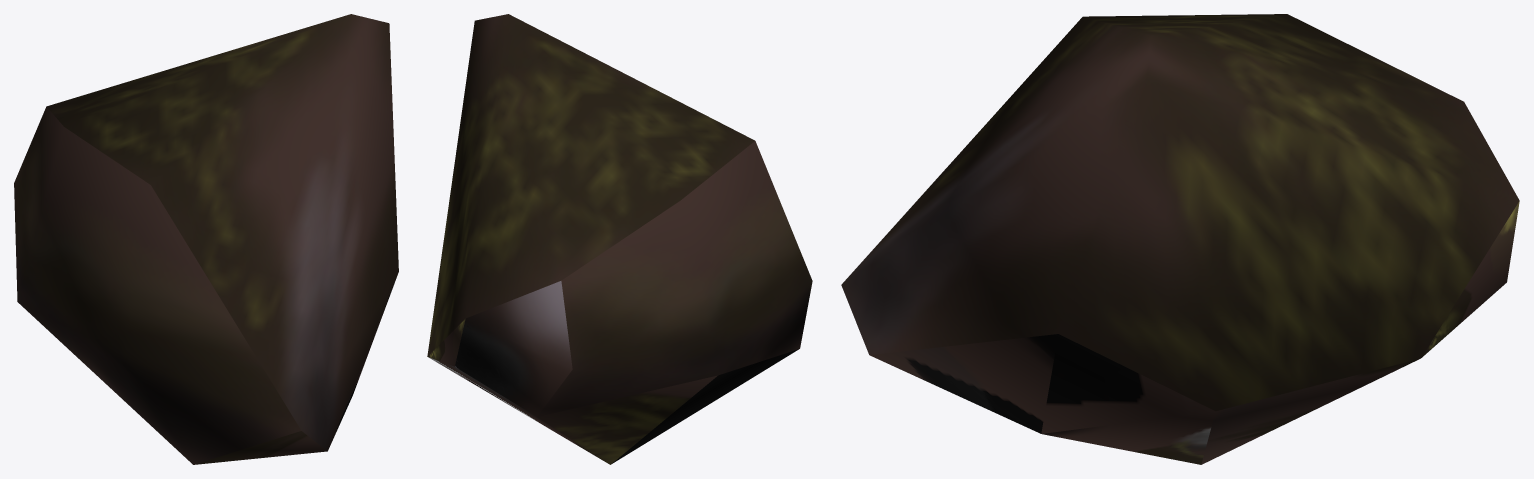
Rendered from SM_RockLagoon_11.fbx.
3 views of the same model, side by side, from view 1: azimuth 30°, elevation 25°; view 2: azimuth 150°, elevation 25°; view 3: azimuth 270°, elevation 25° (orthographic). The views are drawn at different scales.
Visible parts, largest first — view 1: Cubo.010; view 2: Cubo.010; view 3: Cubo.010.
Part boxes in pixels (x1,y1,x2,y2): Cubo.010: [14, 14, 398, 464]; Cubo.010: [427, 14, 812, 464]; Cubo.010: [841, 14, 1519, 464].
Size of the model in its own units: 2.12 by 2.47 by 3.2.
Materials: 1 (1 with a texture image).
